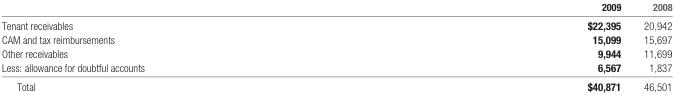table: (1, 0, 671, 92)
table column: (1, 0, 365, 92), (365, 0, 631, 92), (631, 0, 671, 92)
table column header: (1, 0, 671, 15)
table row: (1, 15, 671, 32), (1, 60, 671, 76), (1, 76, 671, 92), (1, 0, 671, 15), (1, 32, 671, 46), (1, 46, 671, 60)
